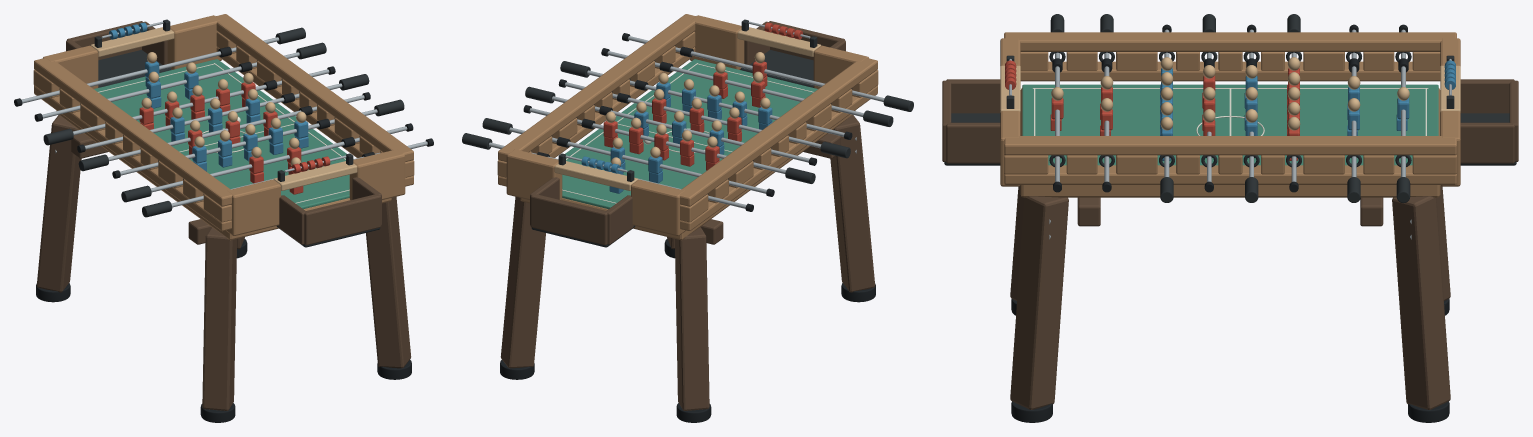
File: city-table-football.glb
3 views of the same model, side by side, from view 1: azimuth 30°, elevation 25°; view 2: azimuth 150°, elevation 25°; view 3: azimuth 270°, elevation 25° (orthographic). The views are drawn at different scales.
Visible parts, largest first — view 1: Assembly | Warm plain laminated wood color, Assembly | Dark sealed wood color, Assembly | Muted green playing surface, Assembly | Satin equipment steel, Assembly | Graphite fittings, Assembly | Pale wood edge color, Assembly | Muted blue game details, Assembly | Muted red game details, Assembly | Black rubber, Assembly | Ivory playing surfaces; view 2: Assembly | Warm plain laminated wood color, Assembly | Dark sealed wood color, Assembly | Muted green playing surface, Assembly | Satin equipment steel, Assembly | Graphite fittings, Assembly | Pale wood edge color, Assembly | Muted red game details, Assembly | Muted blue game details, Assembly | Black rubber, Assembly | Ivory playing surfaces; view 3: Assembly | Warm plain laminated wood color, Assembly | Dark sealed wood color, Assembly | Muted green playing surface, Assembly | Graphite fittings, Assembly | Pale wood edge color, Assembly | Black rubber, Assembly | Satin equipment steel, Assembly | Muted blue game details, Assembly | Muted red game details, Assembly | Ivory playing surfaces.
Part boxes in pixels (<box>): Assembly | Warm plain laminated wood color: <box>33,14,414,240</box>; Assembly | Dark sealed wood color: <box>36,21,411,410</box>; Assembly | Muted green playing surface: <box>94,59,349,208</box>; Assembly | Satin equipment steel: <box>22,21,427,207</box>; Assembly | Graphite fittings: <box>43,19,404,247</box>; Assembly | Pale wood edge color: <box>90,27,357,190</box>; Assembly | Muted blue game details: <box>109,22,308,171</box>; Assembly | Muted red game details: <box>139,82,330,194</box>; Assembly | Black rubber: <box>14,46,433,422</box>; Assembly | Ivory playing surfaces: <box>98,63,349,203</box>; Assembly | Warm plain laminated wood color: <box>497,14,878,240</box>; Assembly | Dark sealed wood color: <box>500,21,875,410</box>; Assembly | Muted green playing surface: <box>562,59,817,208</box>; Assembly | Satin equipment steel: <box>489,21,884,208</box>; Assembly | Graphite fittings: <box>462,19,913,247</box>; Assembly | Pale wood edge color: <box>554,27,821,190</box>; Assembly | Muted red game details: <box>603,22,802,170</box>; Assembly | Muted blue game details: <box>581,82,772,193</box>; Assembly | Black rubber: <box>500,33,875,422</box>; Assembly | Ivory playing surfaces: <box>562,63,813,203</box>; Assembly | Warm plain laminated wood color: <box>1000,32,1460,197</box>; Assembly | Dark sealed wood color: <box>942,79,1518,409</box>; Assembly | Muted green playing surface: <box>1022,84,1438,165</box>; Assembly | Graphite fittings: <box>944,14,1516,202</box>; Assembly | Pale wood edge color: <box>1000,57,1460,130</box>; Assembly | Black rubber: <box>1011,24,1449,422</box>; Assembly | Satin equipment steel: <box>1009,29,1451,239</box>; Assembly | Muted blue game details: <box>1160,60,1455,160</box>; Assembly | Muted red game details: <box>1005,60,1299,160</box>; Assembly | Ivory playing surfaces: <box>1032,88,1428,135</box>.
Bounding box in the file's own units: 1.19 × 0.907 × 1.63.
